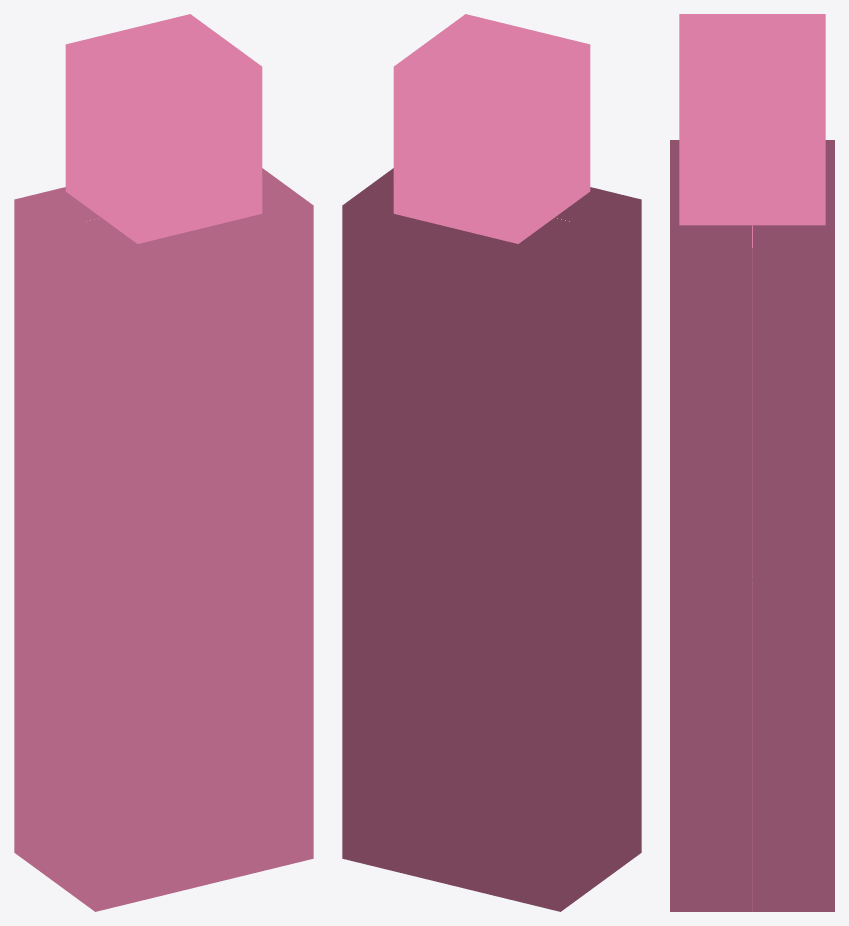
3 renders of one model, left to right at view 1: azimuth 30°, elevation 25°; view 2: azimuth 150°, elevation 25°; view 3: azimuth 270°, elevation 25°, orthographic.
Parts seen in each view (by area): view 1: Root; view 2: Root; view 3: Root.
Part boxes in pixels (bbox=[...]): Root: bbox=[14, 14, 313, 911]; Root: bbox=[342, 14, 641, 911]; Root: bbox=[670, 14, 834, 911].
Bounding box in the file's own units: 0.56 × 1.96 × 0.36.
